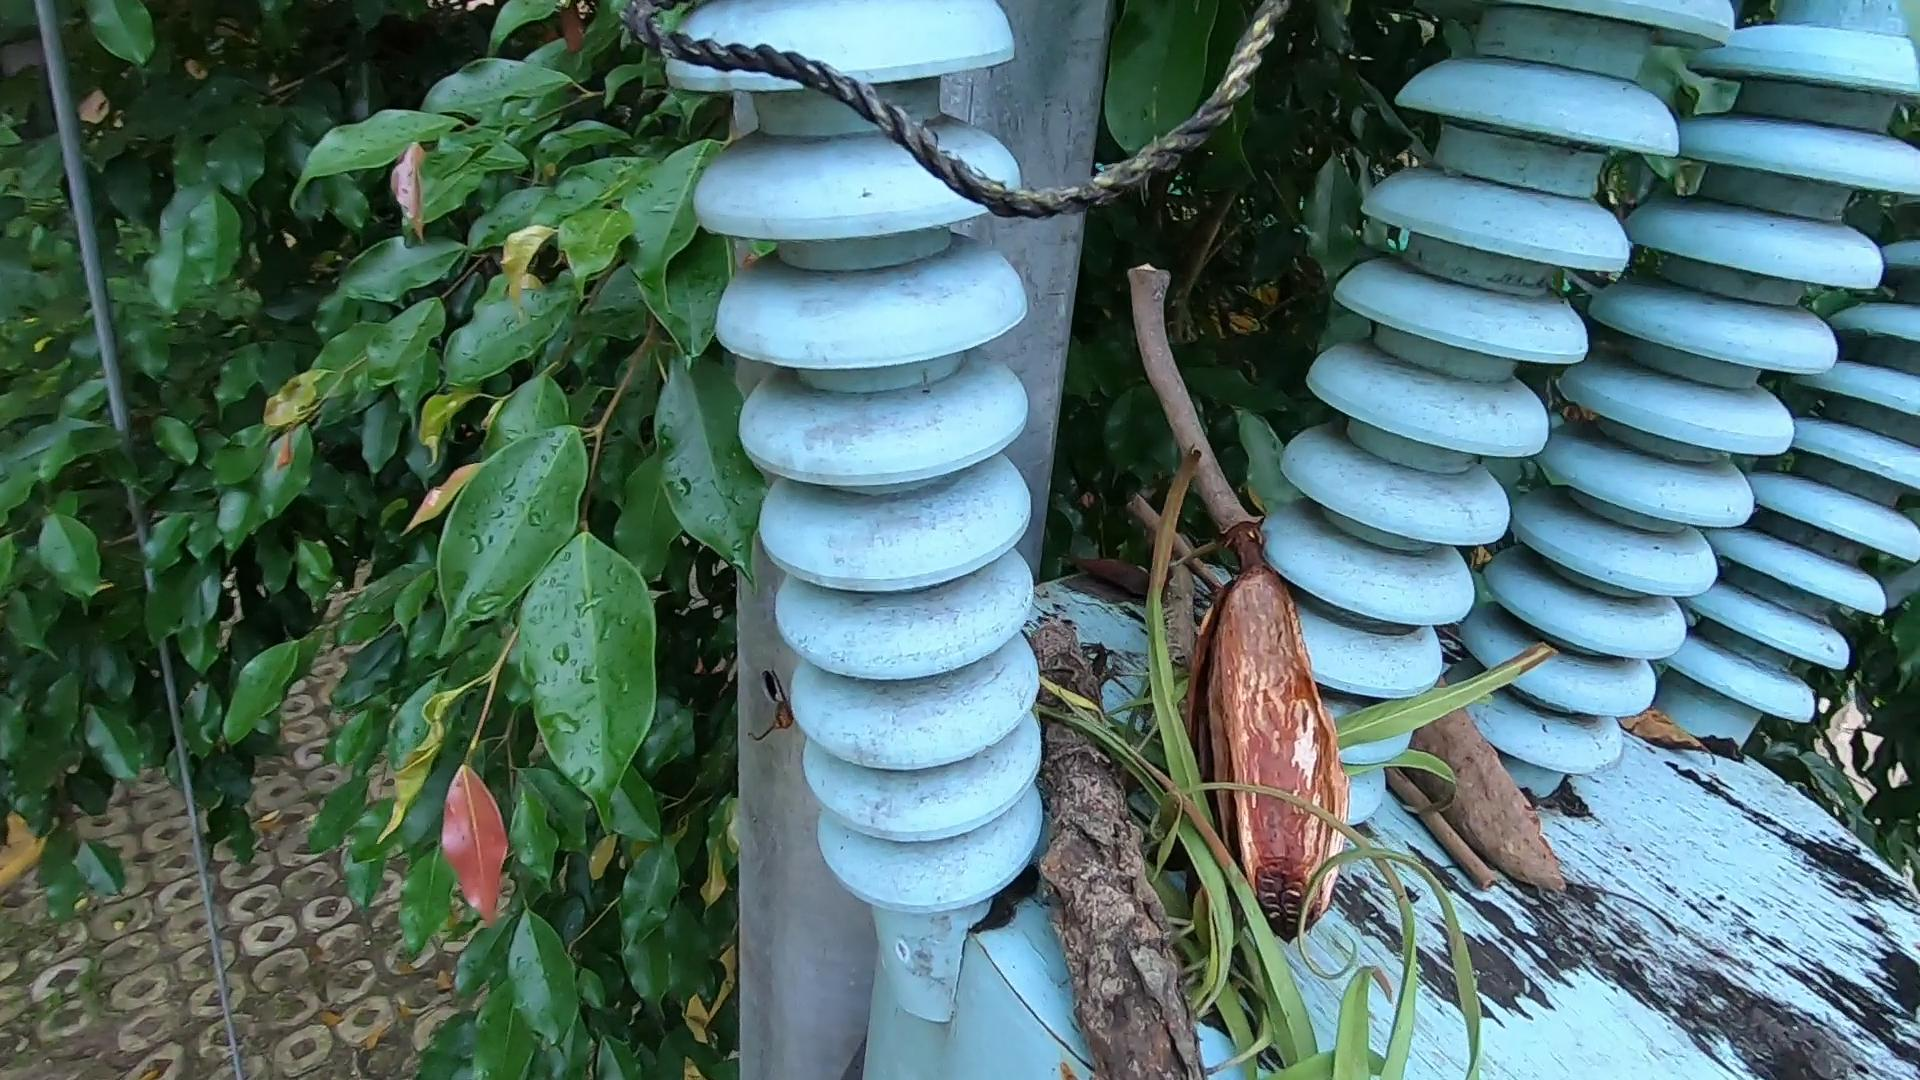branch with leaves: (1011, 442, 1555, 1080)
leaf: (1614, 703, 1716, 757)
mahogany fruit: (1197, 502, 1367, 923), (1366, 634, 1572, 923)
tree branch: (1120, 257, 1354, 926), (1375, 761, 1505, 886), (1126, 492, 1237, 585)
